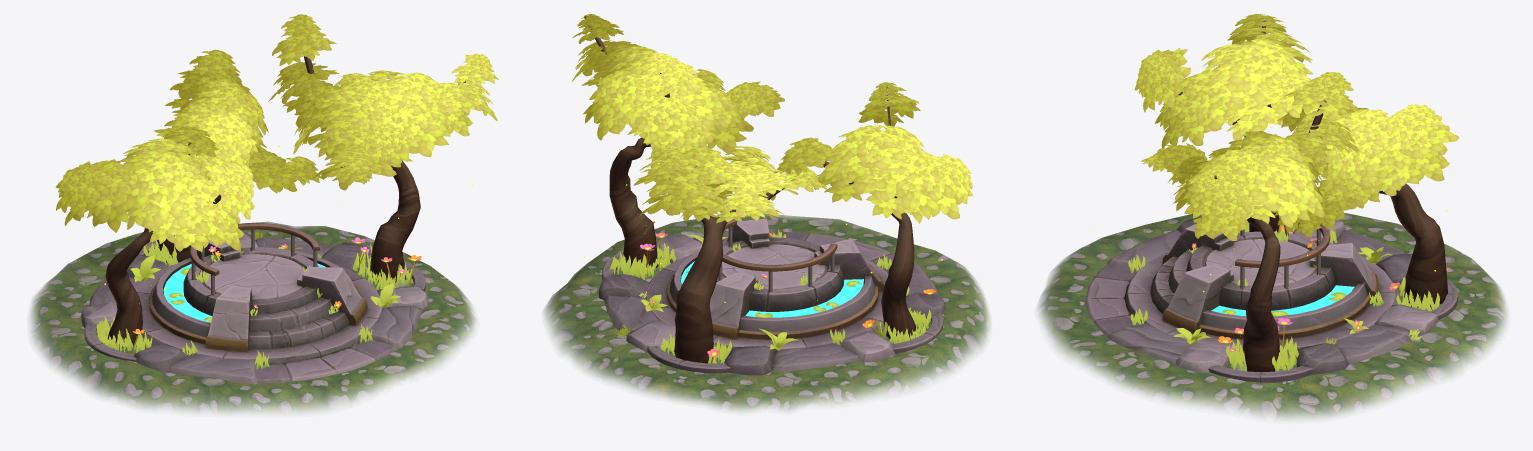
File: pet_background.glb
3 views of the same model, side by side, from view 1: azimuth 30°, elevation 25°; view 2: azimuth 150°, elevation 25°; view 3: azimuth 270°, elevation 25° (orthographic). The views are drawn at different scales.
Parts seen in each view (by area): view 1: Ground_13, Base_15, Tree1_leaves_23, Tree3_leaves_24, Tree2_leaves_25, Foliage_14, Rocks1_18, Rocks2_19, Tree1_trunk_20, Tree3_trunk_21, Railling_16, Corners_17; view 2: Ground_13, Base_15, Tree1_leaves_23, Tree3_leaves_24, Tree2_leaves_25, Rocks2_19, Foliage_14, Tree2_trunk_22, Rocks1_18, Tree1_trunk_20, Tree3_trunk_21, Corners_17 (+1 smaller); view 3: Ground_13, Base_15, Tree1_leaves_23, Tree3_leaves_24, Tree2_leaves_25, Rocks1_18, Foliage_14, Rocks2_19, Tree1_trunk_20, Tree2_trunk_22, Corners_17, Railling_16.
Boxes of the visible parts, box(x1,y1,x2,y2) form: Ground_13: box(30, 221, 476, 413); Base_15: box(135, 240, 397, 383); Tree1_leaves_23: box(268, 14, 498, 190); Tree3_leaves_24: box(56, 126, 254, 252); Tree2_leaves_25: box(154, 49, 322, 193); Foliage_14: box(96, 230, 421, 369); Rocks1_18: box(89, 237, 422, 384); Rocks2_19: box(81, 230, 428, 372); Tree1_trunk_20: box(304, 56, 486, 282); Tree3_trunk_21: box(105, 142, 221, 348); Railling_16: box(190, 223, 319, 295); Corners_17: box(84, 241, 425, 361); Ground_13: box(544, 213, 989, 411); Base_15: box(646, 218, 894, 349); Tree1_leaves_23: box(572, 14, 784, 159); Tree3_leaves_24: box(774, 82, 973, 223); Tree2_leaves_25: box(633, 146, 827, 223); Rocks2_19: box(598, 234, 945, 375); Foliage_14: box(609, 221, 936, 363); Tree2_trunk_22: box(669, 178, 794, 363); Rocks1_18: box(604, 228, 939, 371); Tree1_trunk_20: box(584, 15, 669, 267); Tree3_trunk_21: box(823, 85, 915, 338); Corners_17: box(602, 251, 943, 373); Ground_13: box(1038, 213, 1506, 419); Base_15: box(1085, 223, 1400, 355); Tree1_leaves_23: box(1141, 72, 1360, 240); Tree3_leaves_24: box(1134, 14, 1319, 148); Tree2_leaves_25: box(1273, 104, 1458, 237); Rocks1_18: box(1106, 230, 1414, 364); Foliage_14: box(1128, 215, 1448, 371); Rocks2_19: box(1175, 218, 1438, 374); Tree1_trunk_20: box(1214, 100, 1326, 372); Tree2_trunk_22: box(1378, 183, 1447, 307); Corners_17: box(1208, 215, 1458, 382); Railling_16: box(1235, 211, 1330, 288).
Bounding box in the file's own units: 11.17 × 7.11 × 10.52.
8 materials, 7 textured.
